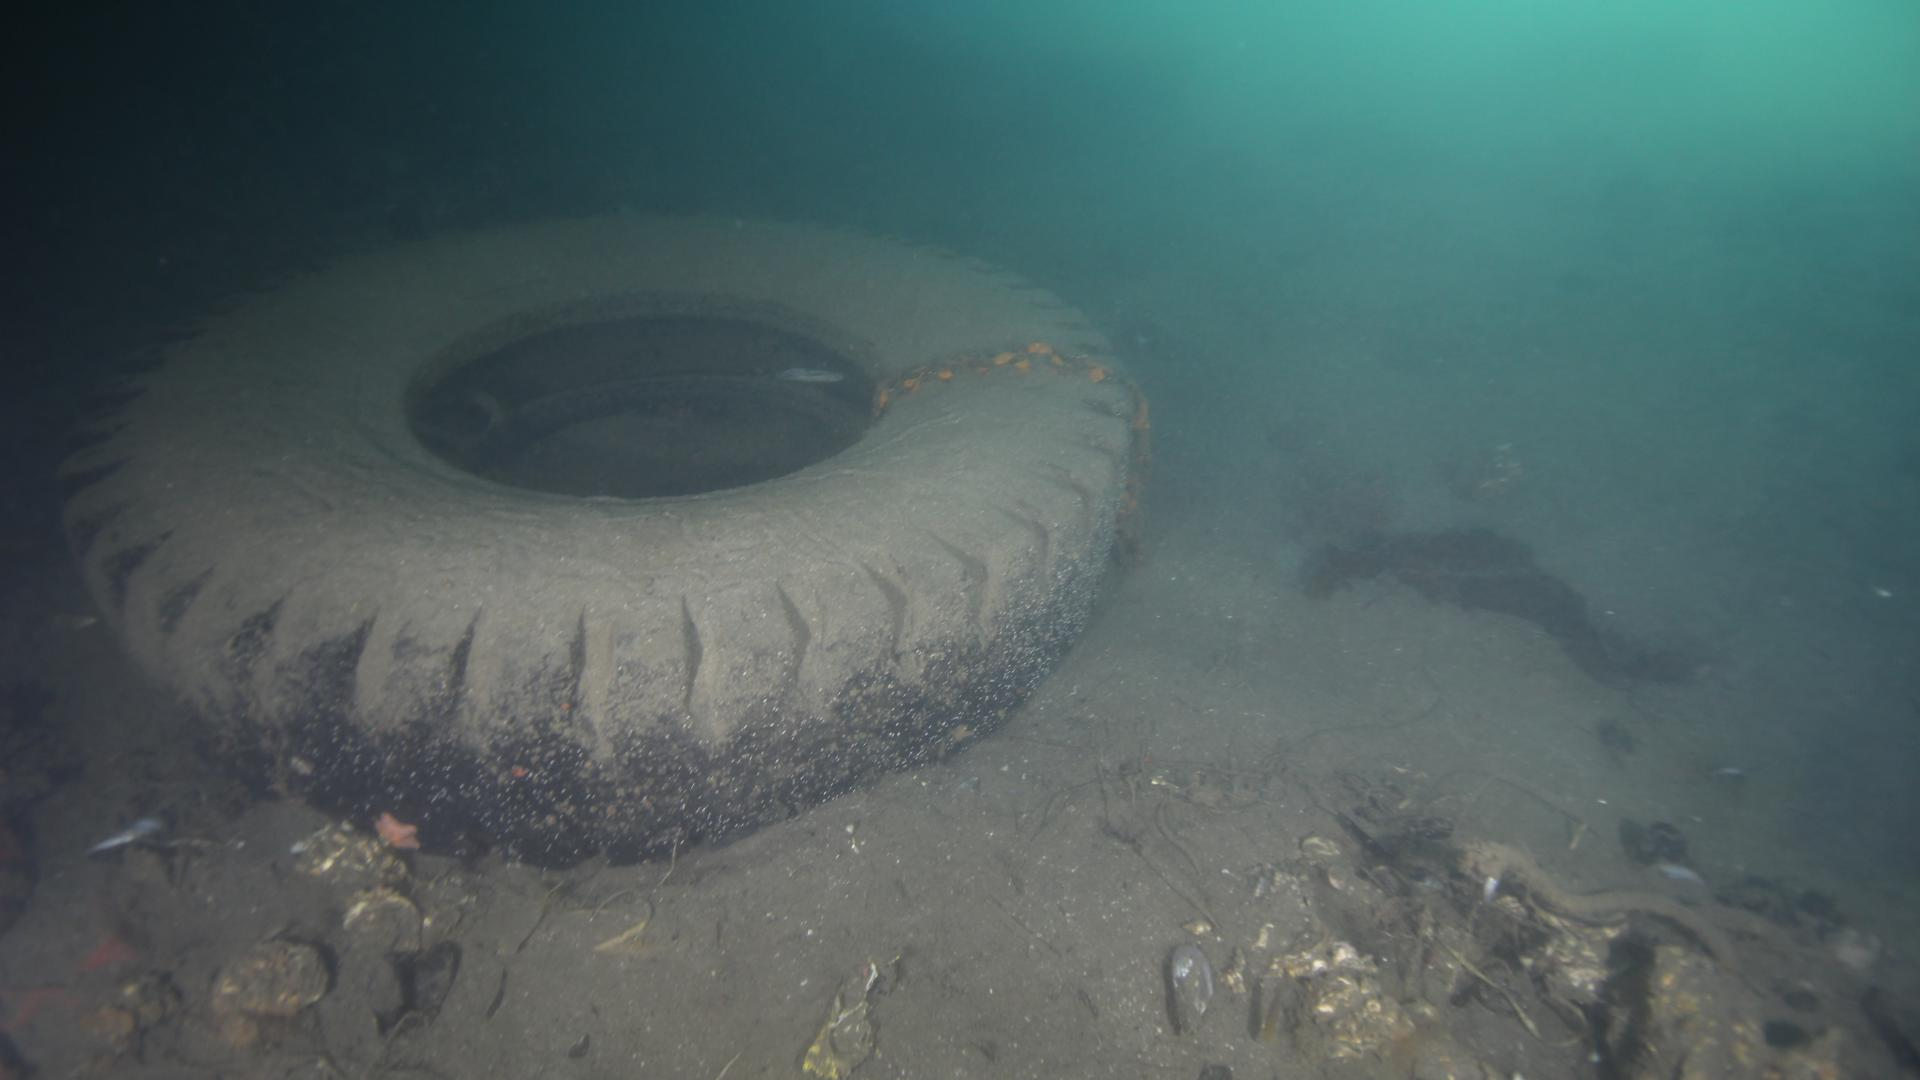tire: (49, 206, 1134, 865)
